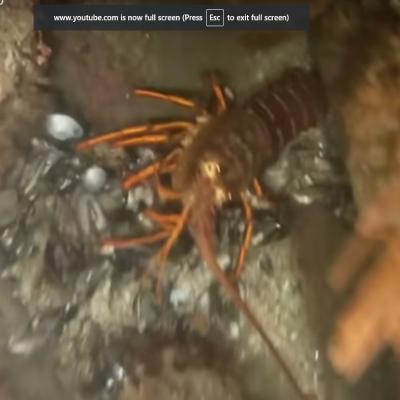lobster: (169, 76, 322, 252)
